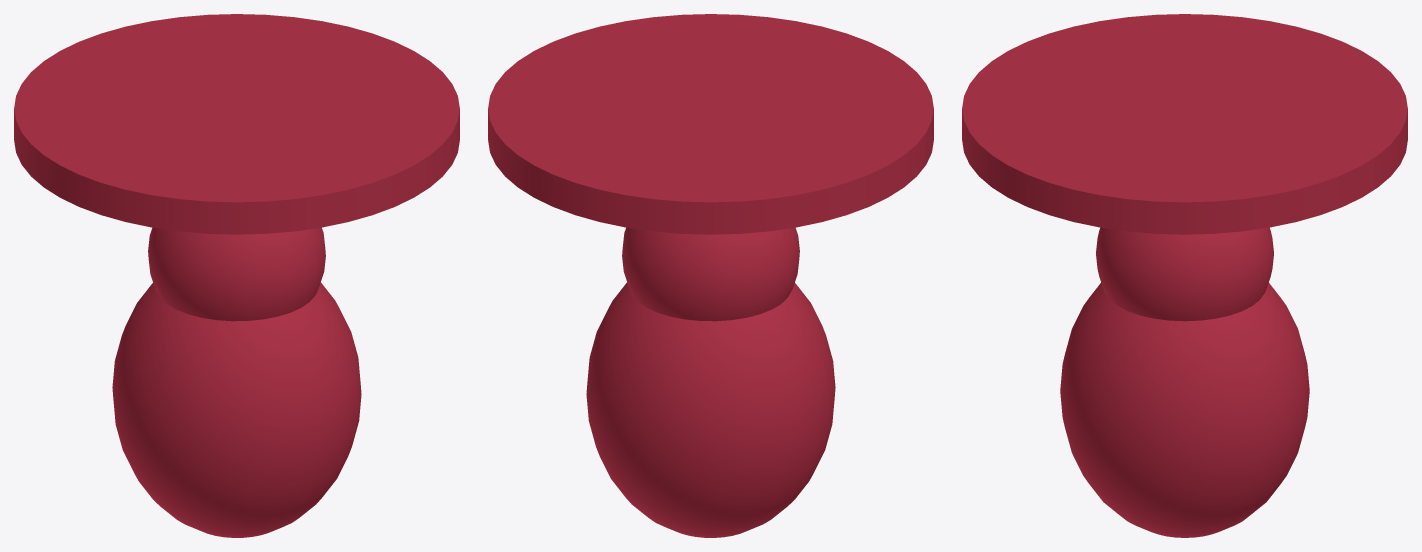
Rendered from ref02_03.glb.
The picture shows the model from 3 angles, left to right: view 1: azimuth 30°, elevation 25°; view 2: azimuth 150°, elevation 25°; view 3: azimuth 270°, elevation 25°; orthographic projection.
Parts seen in each view (by area): view 1: ref02_03; view 2: ref02_03; view 3: ref02_03.
Boxes of the visible parts, x1=… form: ref02_03: x1=14, y1=14, x2=459, y2=537; ref02_03: x1=488, y1=14, x2=933, y2=537; ref02_03: x1=962, y1=14, x2=1407, y2=537.
Bounding box in the file's own units: 0.5 × 0.52 × 0.5.
